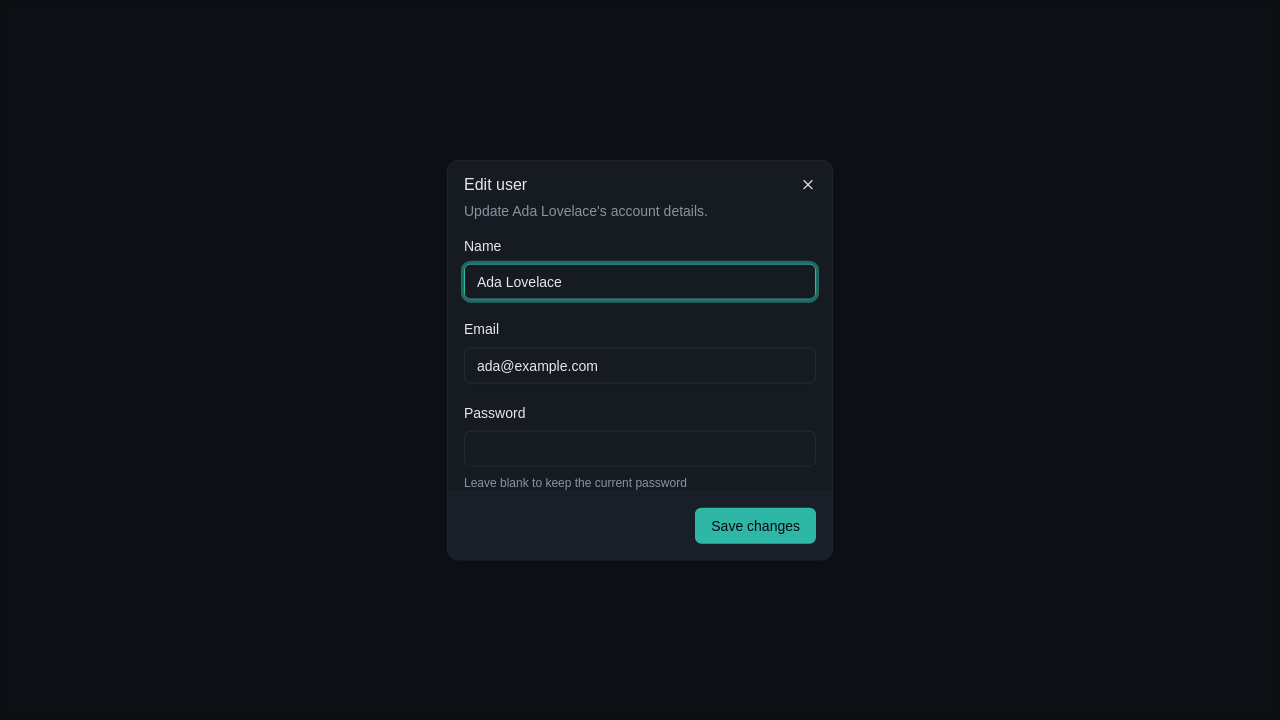
EditUserDialog › falls back to a generic message for a non-axios error
Click the button "Save changes". click: coordinates (756, 525)
box: [695,507,816,543]
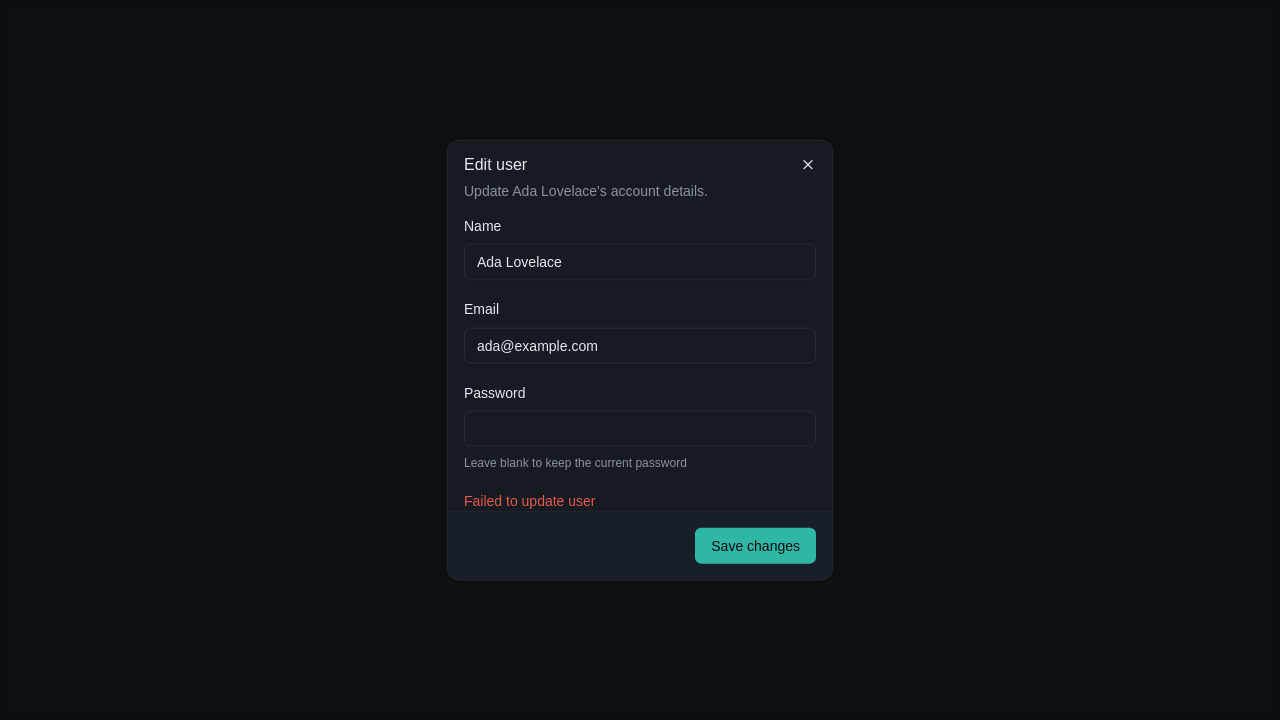
Expected: the text "Failed to update user" is shown, [464,492,596,508]
